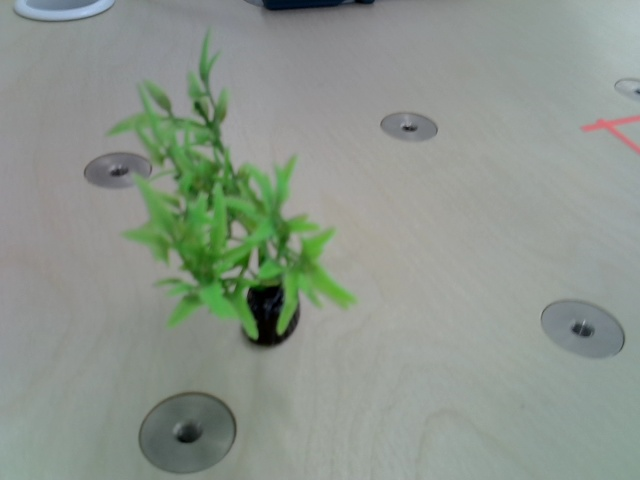튤립새싹: (122, 48, 338, 342)
